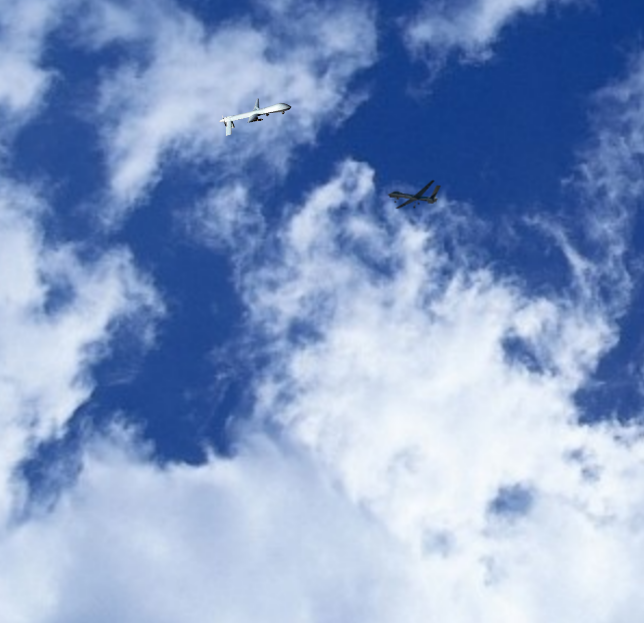military drone: (219, 98, 291, 136), (387, 179, 441, 208)
